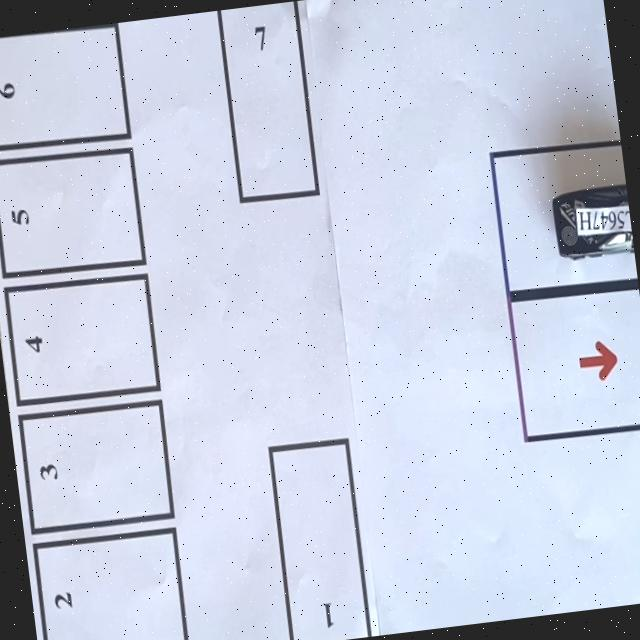car: (546, 178, 634, 265)
